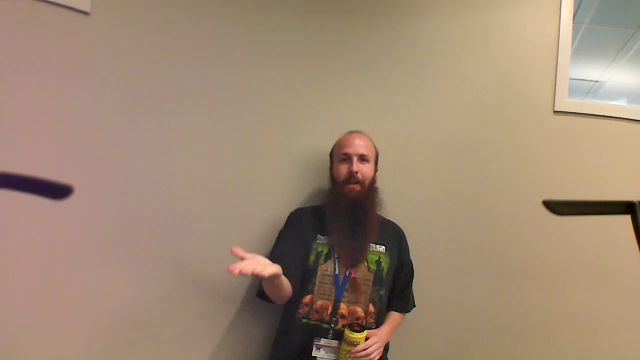land: (216, 246, 288, 285)
